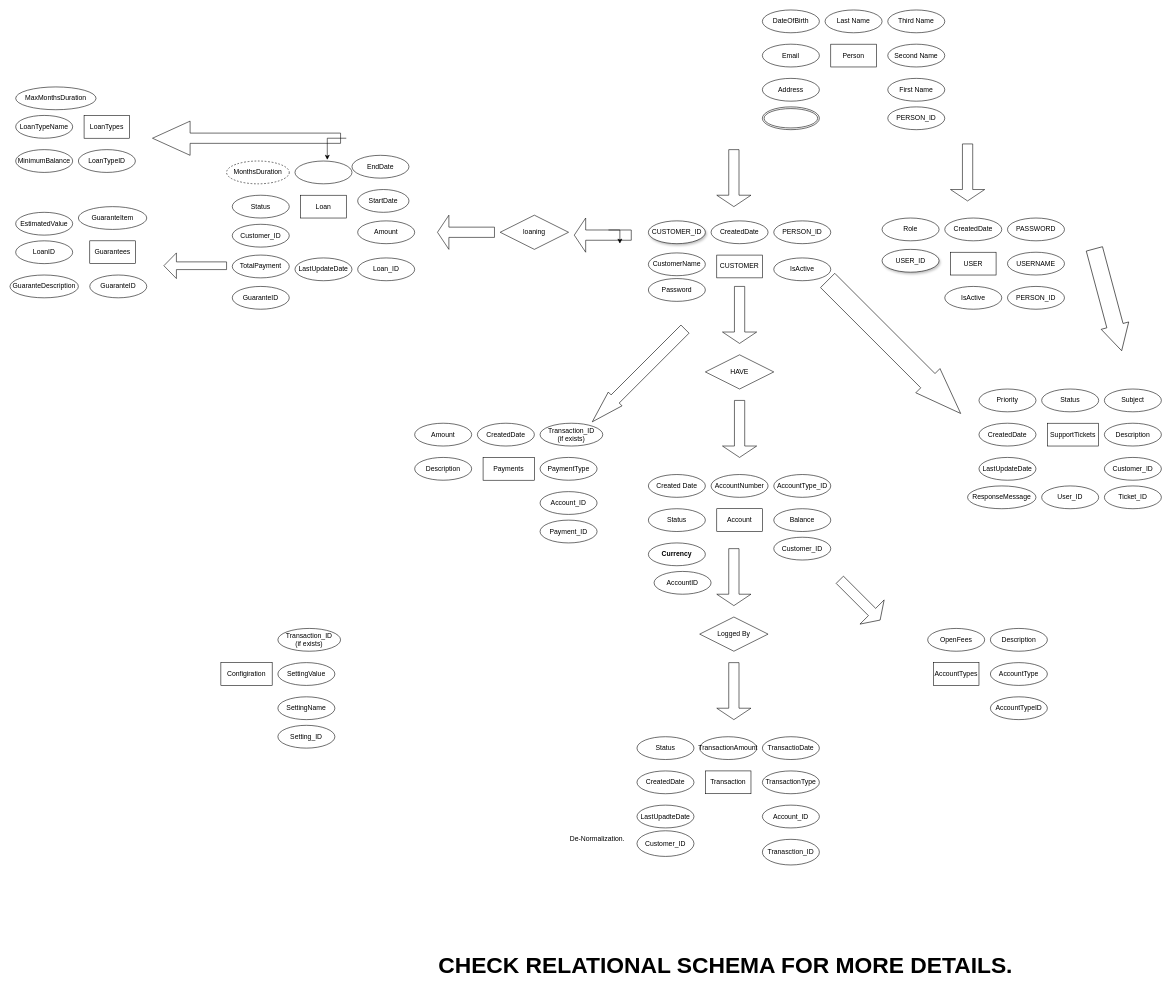
The diagram is 1171 pixels wide and 992 high, and some of its shapes have lost their labels. The centre of each missing label's shape, as x and y in pixels:
"LoadTypeID" goes at point (323, 172).
"Phone" goes at point (790, 118).
